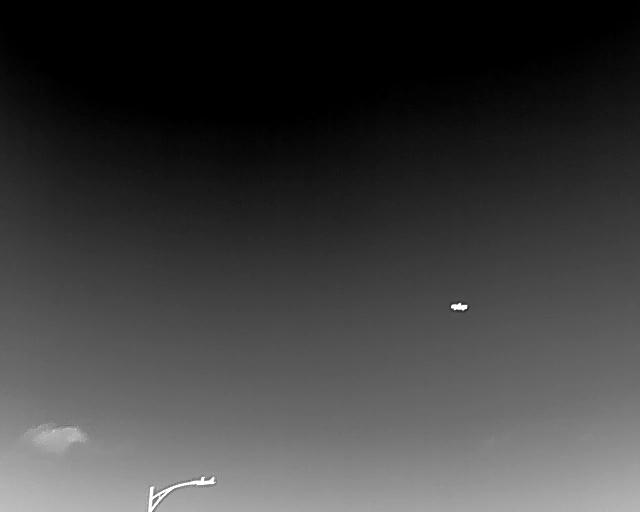fpv-drone: (450, 302, 468, 312)
